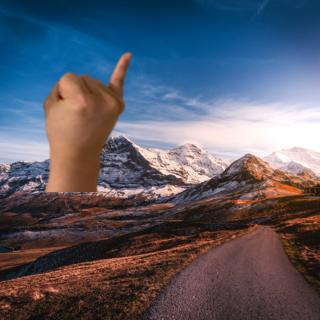FINE: (41, 48, 136, 164)
